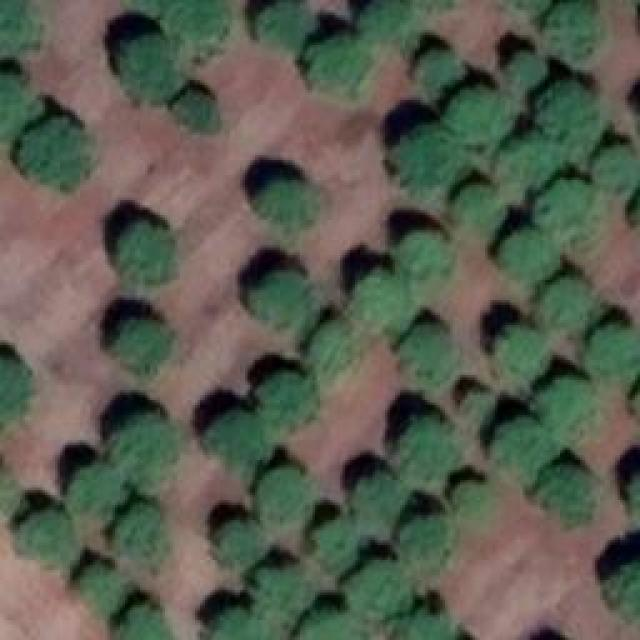Tree: (20, 120, 88, 188), (400, 125, 465, 195), (538, 80, 603, 150), (115, 217, 178, 285), (120, 415, 178, 488), (130, 0, 225, 38), (533, 180, 596, 235), (535, 377, 593, 435), (397, 417, 455, 475), (125, 35, 178, 98), (20, 510, 80, 565), (308, 35, 368, 90), (207, 410, 265, 465), (450, 88, 510, 141), (258, 375, 318, 428), (250, 563, 308, 616), (498, 135, 561, 183), (540, 468, 593, 523), (347, 563, 405, 613), (115, 318, 168, 371), (73, 463, 126, 516), (255, 180, 315, 225), (358, 270, 408, 323), (495, 420, 548, 470), (258, 465, 308, 518), (253, 267, 306, 315), (503, 227, 556, 275), (588, 325, 638, 375), (113, 503, 163, 553), (607, 552, 640, 627), (77, 563, 125, 613), (550, 0, 593, 55), (402, 327, 450, 375), (497, 325, 545, 373), (545, 280, 593, 328), (260, 0, 310, 45), (402, 518, 450, 563), (213, 520, 263, 563), (118, 602, 173, 640), (455, 183, 503, 226), (595, 145, 640, 190), (362, 0, 409, 42), (355, 475, 400, 518), (402, 230, 450, 270), (313, 322, 353, 370), (300, 610, 363, 640), (0, 355, 28, 418), (213, 605, 263, 640), (315, 518, 358, 558), (0, 75, 30, 130), (400, 610, 453, 640), (178, 93, 218, 128), (0, 0, 32, 42), (420, 50, 453, 90), (455, 480, 490, 515), (507, 53, 545, 83), (0, 472, 22, 512), (468, 388, 493, 403)
